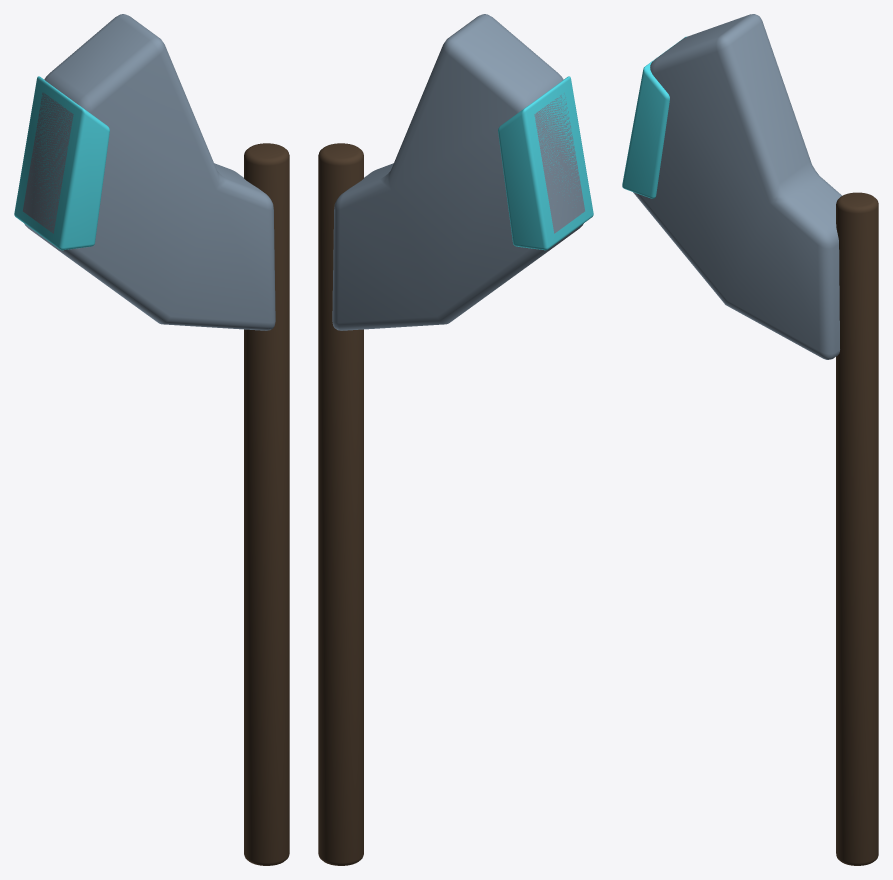
Rendered from axe_v2.glb.
The picture shows the model from 3 angles, left to right: view 1: azimuth 30°, elevation 25°; view 2: azimuth 150°, elevation 25°; view 3: azimuth 330°, elevation 25°; orthographic projection. The views are drawn at different scales.
Parts seen in each view (by area): view 1: BEARDED_HEAD_PRIMARY, HAFT_SECONDARY, BEARD_EDGE_ACCENT; view 2: BEARDED_HEAD_PRIMARY, HAFT_SECONDARY, BEARD_EDGE_ACCENT; view 3: BEARDED_HEAD_PRIMARY, HAFT_SECONDARY, BEARD_EDGE_ACCENT.
Part boxes in pixels (left/top/right/bottom): BEARDED_HEAD_PRIMARY: left=23, top=14, right=275, bottom=330; HAFT_SECONDARY: left=244, top=143, right=289, bottom=865; BEARD_EDGE_ACCENT: left=14, top=76, right=109, bottom=250; BEARDED_HEAD_PRIMARY: left=332, top=14, right=584, bottom=330; HAFT_SECONDARY: left=318, top=143, right=363, bottom=865; BEARD_EDGE_ACCENT: left=498, top=76, right=593, bottom=250; BEARDED_HEAD_PRIMARY: left=633, top=14, right=841, bottom=359; HAFT_SECONDARY: left=836, top=192, right=878, bottom=865; BEARD_EDGE_ACCENT: left=622, top=36, right=686, bottom=198.
Size of the model in its own units: 1.26 by 4.15 by 0.42.
